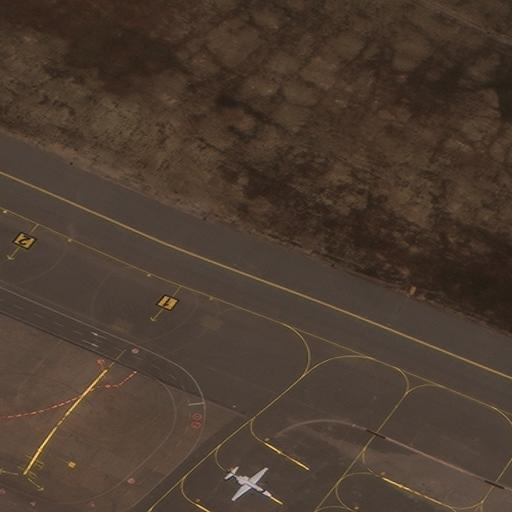Medium Civil Transport: (228, 468, 271, 501)
